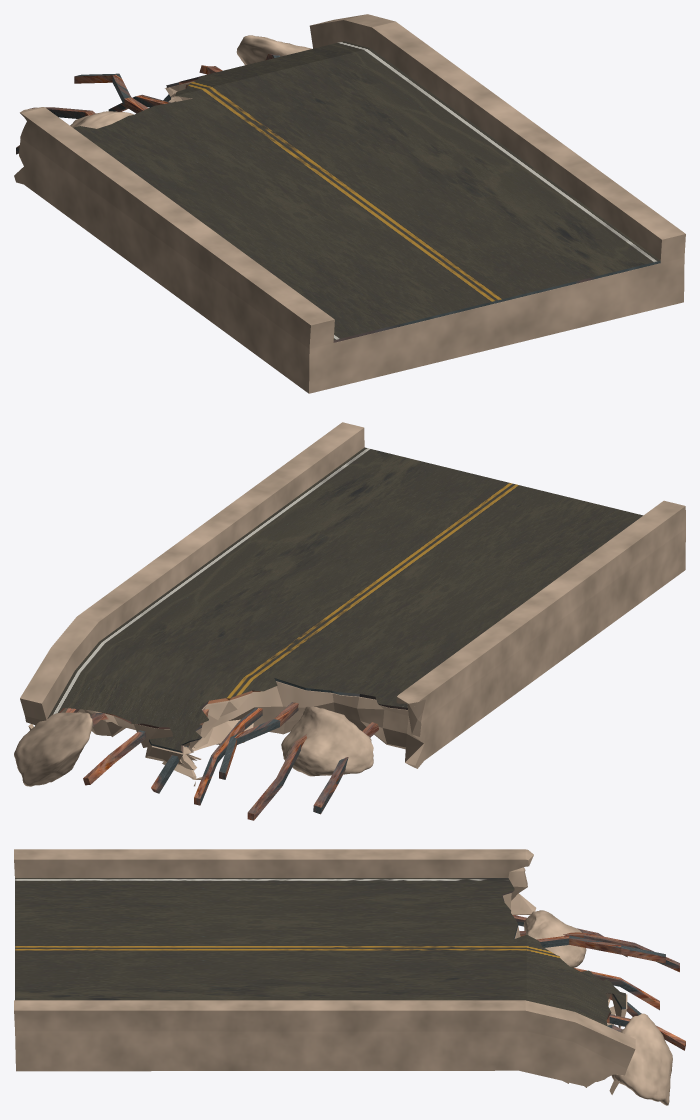
File: Road_tile_Broken_DeadEnd_Road.fbx
The picture shows the model from 3 angles, top to bottom: view 1: azimuth 30°, elevation 25°; view 2: azimuth 150°, elevation 25°; view 3: azimuth 270°, elevation 25°; orthographic projection. The views are drawn at different scales.
Parts seen in each view (by area): view 1: Road.008, Road_Tile_Fell, rock.004, Cube.041, rock; view 2: Road.008, Road_Tile_Fell, rock, rock.004, Cube.041, Cube.046, Cube.047, Cube.045, Cube.040; view 3: Road.008, Road_Tile_Fell, rock.004, rock, Cube.041, Cube.047, Cube.046, Cube.045.
Part boxes in pixels (x1=…): Road.008: x1=73, y1=41, x2=660, y2=342; Road_Tile_Fell: x1=14, y1=14, x2=685, y2=393; rock.004: x1=236, y1=35, x2=312, y2=65; Cube.041: x1=74, y1=73, x2=148, y2=113; rock: x1=70, y1=111, x2=133, y2=128; Road.008: x1=47, y1=447, x2=643, y2=753; Road_Tile_Fell: x1=20, y1=422, x2=685, y2=786; rock: x1=281, y1=706, x2=373, y2=776; rock.004: x1=14, y1=712, x2=93, y2=786; Cube.041: x1=219, y1=702, x2=298, y2=779; Cube.046: x1=194, y1=707, x2=262, y2=805; Cube.047: x1=247, y1=734, x2=306, y2=820; Cube.045: x1=83, y1=730, x2=146, y2=785; Cube.040: x1=313, y1=722, x2=378, y2=814; Road.008: x1=15, y1=878, x2=625, y2=1025; Road_Tile_Fell: x1=14, y1=849, x2=635, y2=1094; rock.004: x1=611, y1=1013, x2=672, y2=1105; rock: x1=523, y1=910, x2=586, y2=967; Cube.041: x1=536, y1=935, x2=665, y2=963; Cube.047: x1=519, y1=930, x2=679, y2=972; Cube.046: x1=574, y1=968, x2=659, y2=1010; Cube.045: x1=606, y1=1014, x2=685, y2=1050.
Size of the model in its own units: 394 by 121 by 692.
Materials: 2 (2 with a texture image).
